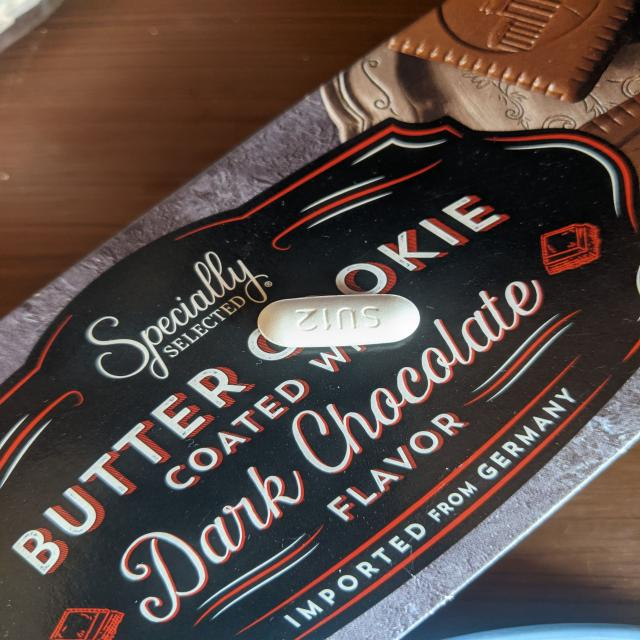non-organic waste: (256, 293, 422, 348)
